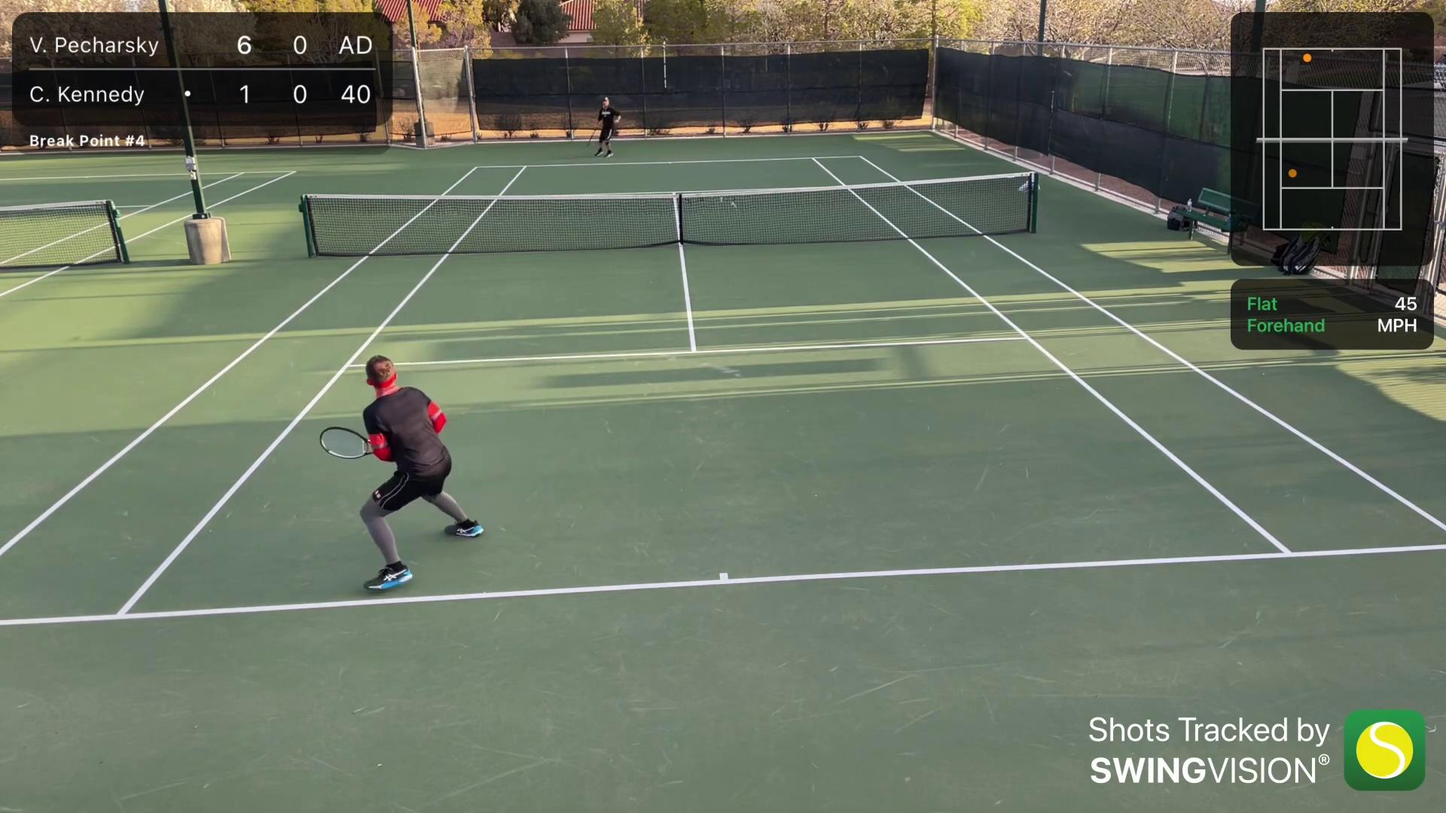ball: (389, 116, 394, 123)
